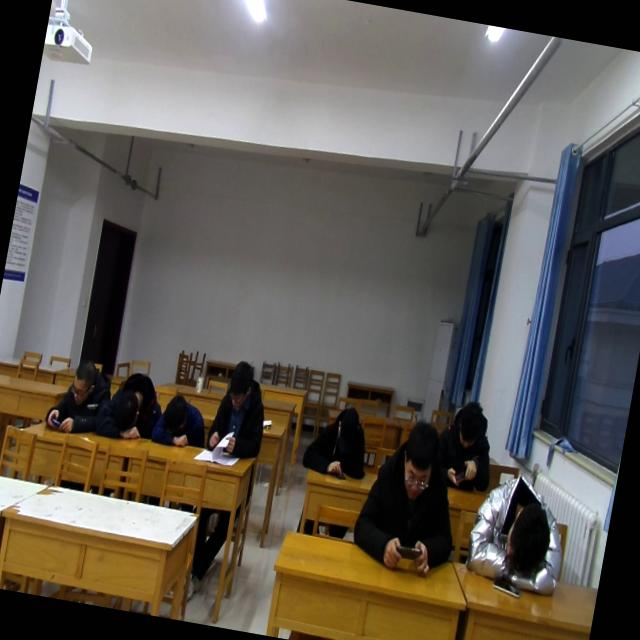bow: (460, 460, 578, 599), (92, 361, 170, 448), (42, 351, 117, 440), (298, 399, 376, 483), (147, 388, 213, 454)
down: (392, 413, 443, 502), (221, 353, 257, 414), (452, 398, 488, 450), (66, 354, 98, 404), (329, 402, 363, 449)
sit: (346, 412, 472, 582), (429, 393, 505, 498), (203, 357, 276, 465)
